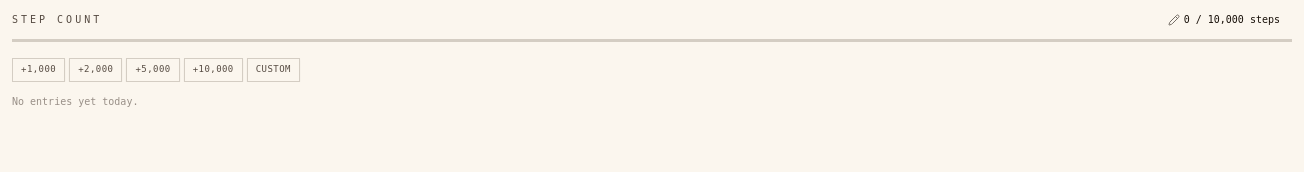
Test case: StepTracker component › cancels goal editing when Cancel is clicked
The image size is (1304, 172).
Step 1. Click the button "0 / 10,000 steps" → coordinates (1224, 20), box [1156, 12, 1292, 27]
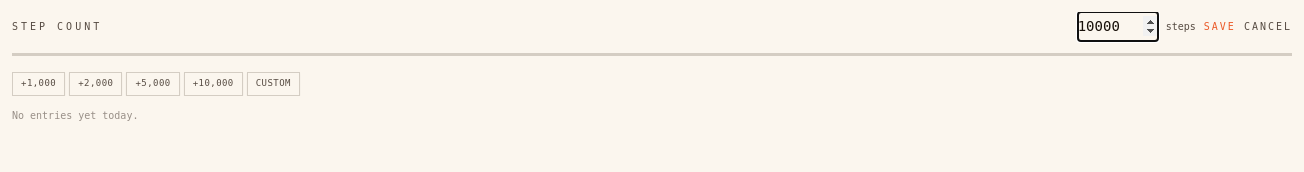
Step 2. Click the button "Cancel" → coordinates (1268, 26), box [1244, 19, 1292, 34]
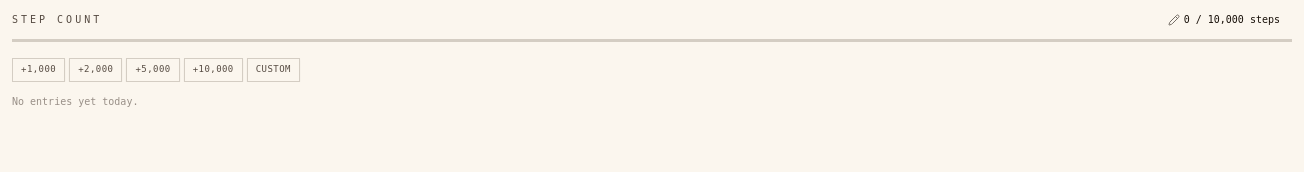
Now the button "Save" is gone
